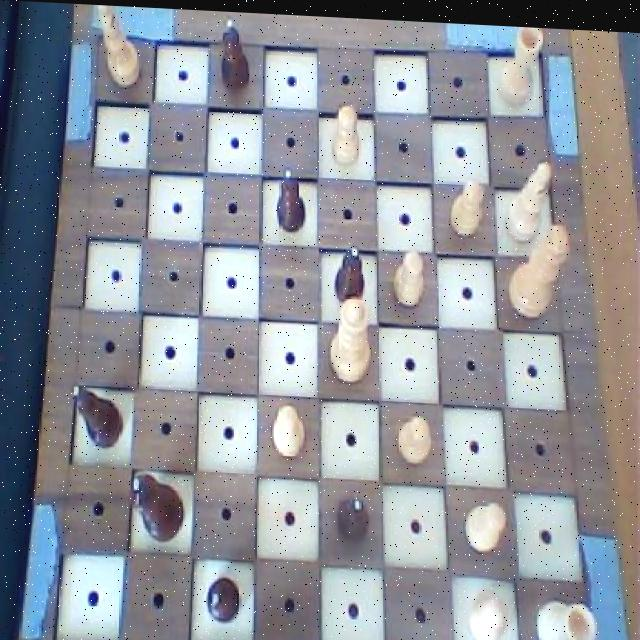bishop: (69, 380, 126, 453)
black-bishop: (129, 465, 186, 545)
black-knight: (214, 13, 252, 96), (272, 162, 310, 233), (330, 237, 368, 307), (200, 568, 242, 625), (334, 486, 374, 545)
black-rook: (502, 148, 556, 243), (93, 4, 148, 94)
white-bishop: (506, 213, 571, 319)
white-knight: (460, 489, 512, 555), (268, 397, 310, 460), (394, 407, 436, 469), (328, 95, 364, 165), (467, 584, 511, 640), (449, 169, 486, 235), (392, 243, 429, 308)
white-pawn: (327, 289, 375, 384)
white-queen: (494, 20, 546, 105), (531, 588, 600, 640)
